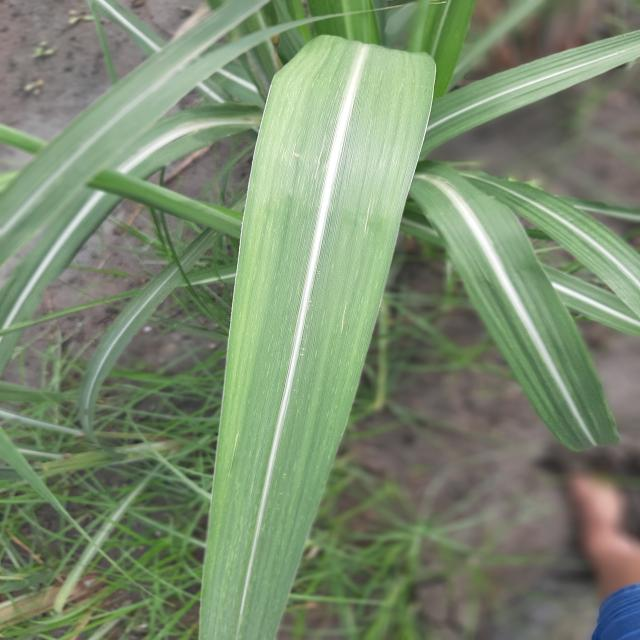Sugarcane: (196, 34, 438, 638)
